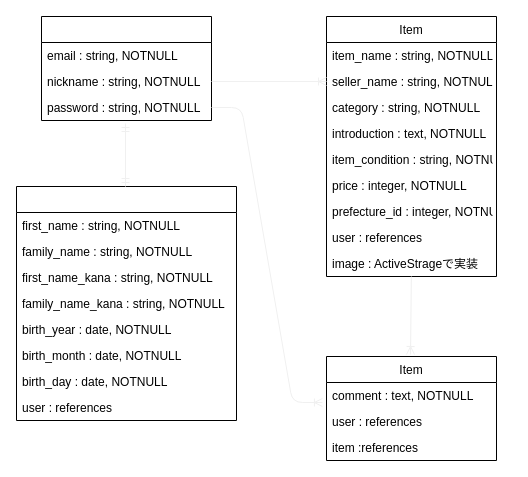
The diagram is 528 pixels wide and 477 high, and some of its shapes have lost their labels. Each missing label, with the box of its shape:
Profile: (16, 186, 236, 420)
User: (40, 16, 212, 120)
